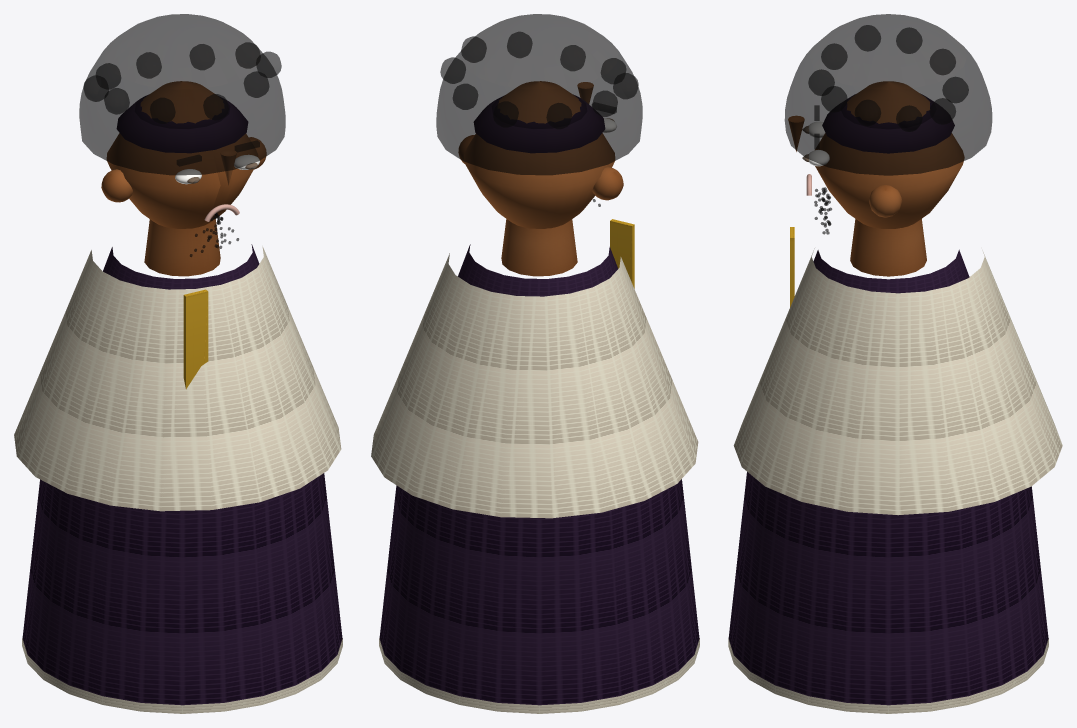
Rendered from pashhur.glb.
The picture shows the model from 3 angles, left to right: view 1: azimuth 30°, elevation 25°; view 2: azimuth 150°, elevation 25°; view 3: azimuth 270°, elevation 25°; orthographic projection.
Parts seen in each view (by area): view 1: Character_pashhur_the_priest, head; view 2: Character_pashhur_the_priest, head; view 3: Character_pashhur_the_priest, head.
Boxes of the visible parts, left/top/right/bottom form: Character_pashhur_the_priest: left=14, top=14, right=342, bottom=713; head: left=107, top=81, right=257, bottom=228; Character_pashhur_the_priest: left=371, top=14, right=699, bottom=713; head: left=464, top=81, right=614, bottom=228; Character_pashhur_the_priest: left=728, top=14, right=1062, bottom=713; head: left=815, top=81, right=964, bottom=228.
Bounding box in the file's own units: 0.8621 × 1.8 × 0.8764.
10 materials, 6 textured.
